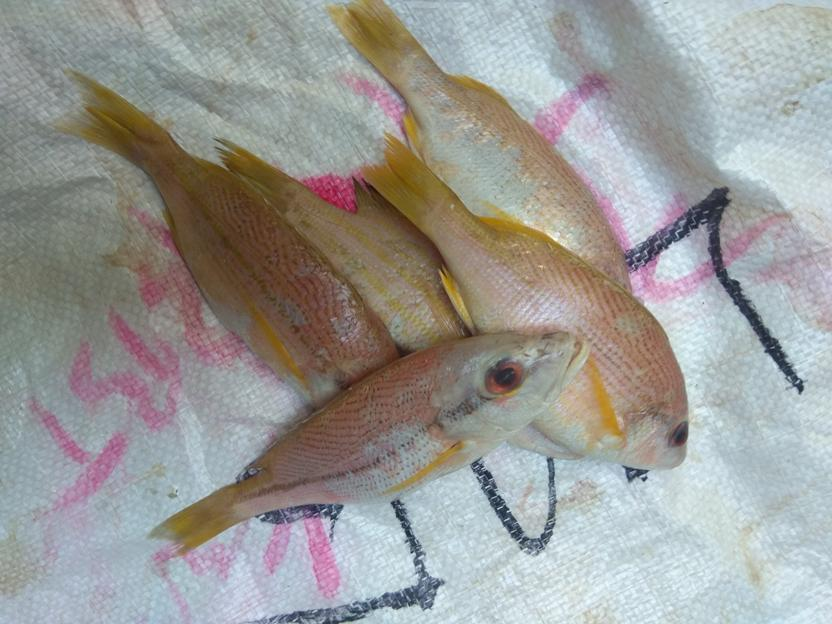Fish head: (436, 330, 593, 441), (618, 400, 689, 469)
Fish tail: (51, 68, 177, 164), (357, 130, 463, 232), (321, 1, 430, 77), (146, 480, 246, 560), (210, 134, 305, 211)
